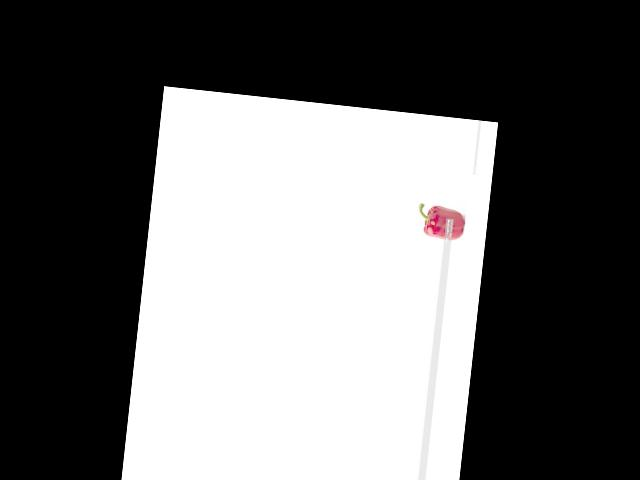bell_pepper: (413, 198, 465, 243)
